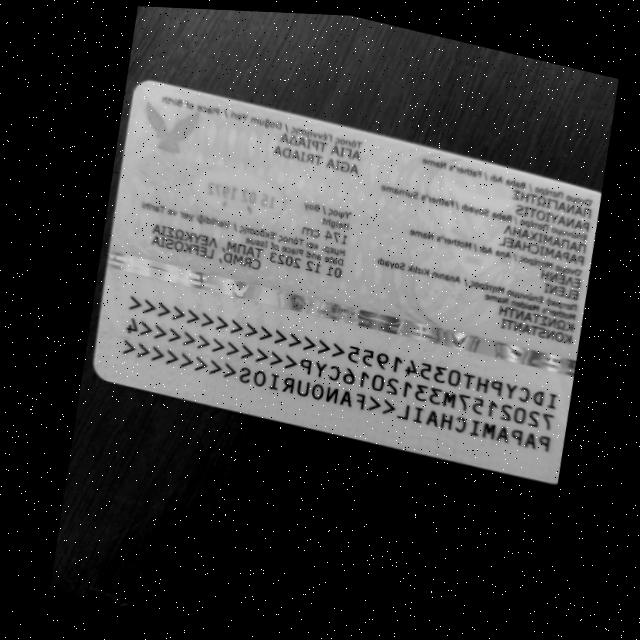card: (94, 82, 601, 482)
